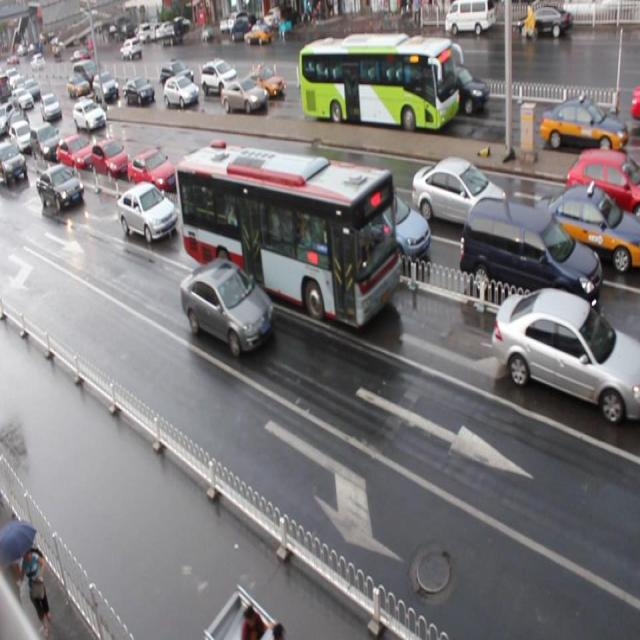car: (490, 290, 640, 421), (528, 186, 640, 276), (180, 259, 275, 357), (411, 153, 509, 233), (340, 187, 430, 270), (247, 159, 328, 233), (566, 149, 640, 227), (538, 94, 626, 156), (117, 183, 176, 245), (176, 150, 241, 206), (423, 62, 488, 118), (130, 145, 178, 194), (37, 166, 83, 211), (220, 79, 266, 114), (58, 134, 96, 174), (89, 136, 126, 176), (201, 59, 238, 95), (246, 68, 285, 100), (164, 73, 199, 108), (73, 100, 107, 135), (30, 126, 60, 163), (160, 61, 195, 92), (1, 142, 27, 183), (122, 76, 154, 108), (93, 72, 119, 102), (628, 84, 640, 119)
truck: (460, 194, 602, 325)
van: (176, 141, 398, 327), (299, 36, 458, 131)
